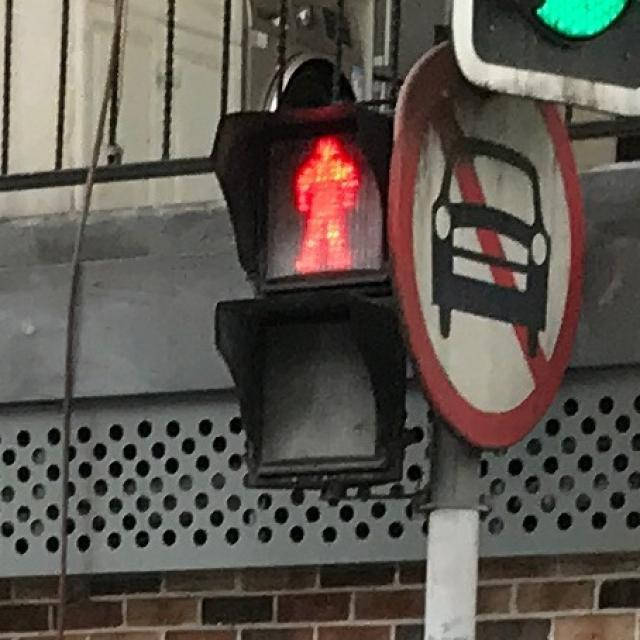red_light: (265, 131, 365, 278)
